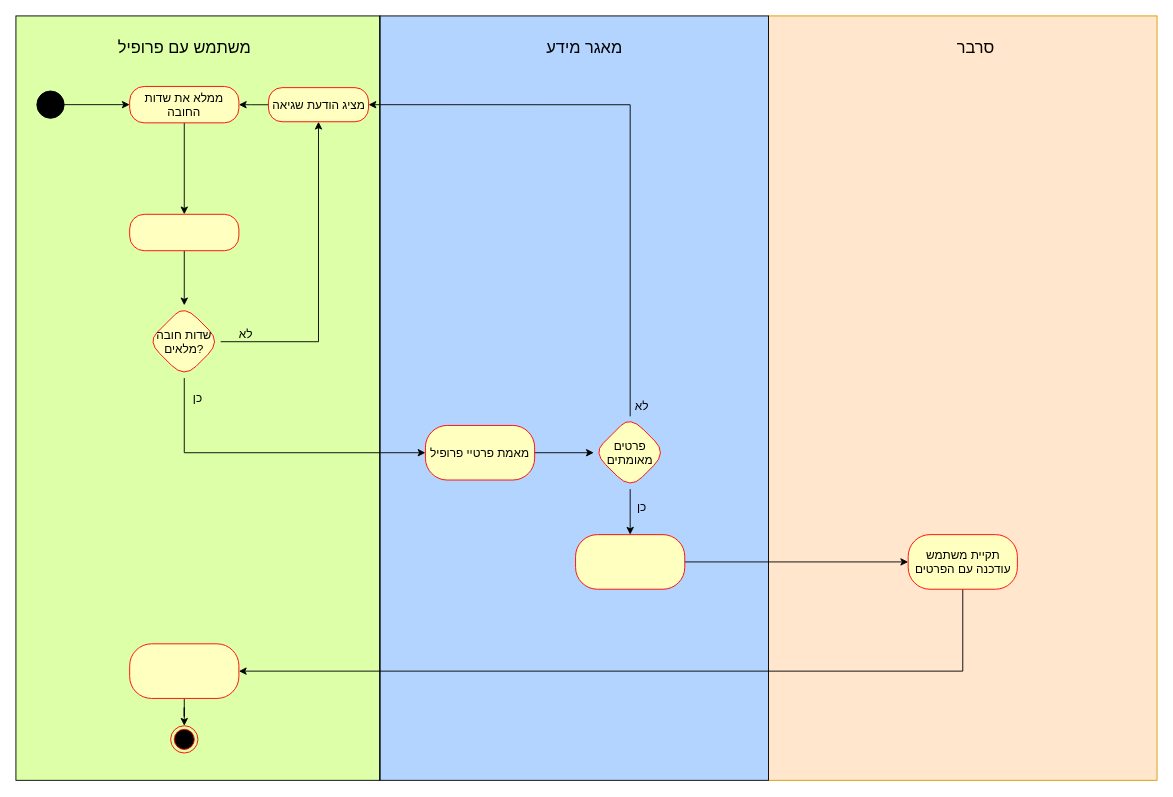
The diagram is 1173 pixels wide and 797 high, and some of its shapes have lost their labels. Here are the shapes that lost their labels. From the top down, the centre of each, then its label:
At pixel 184 232: "לוחץ על כפתור ערוך פרופיל".
At pixel 630 561: "פרטיי פרופיל עודכנו במאגר המידע".
At pixel 184 670: "עובר לדף פרופיל".
